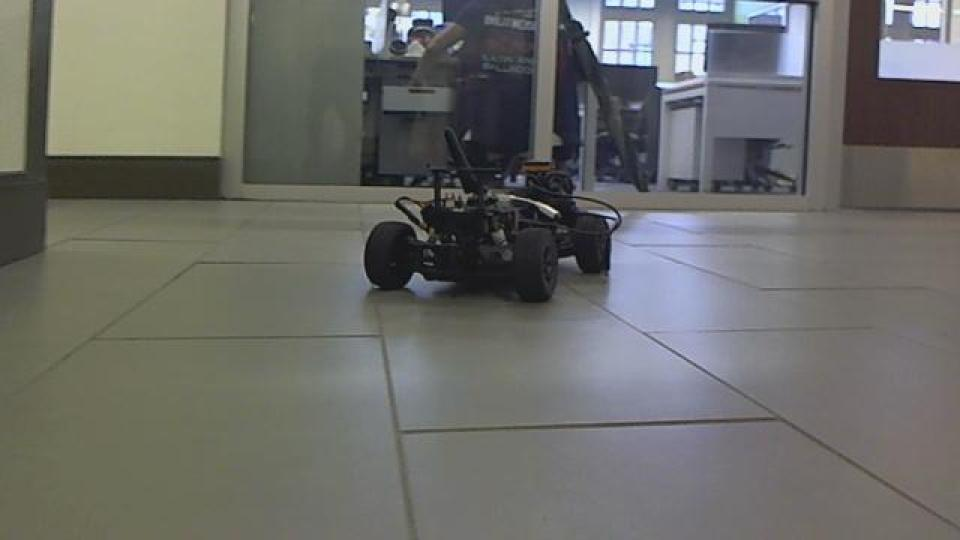car: (360, 124, 624, 304)
